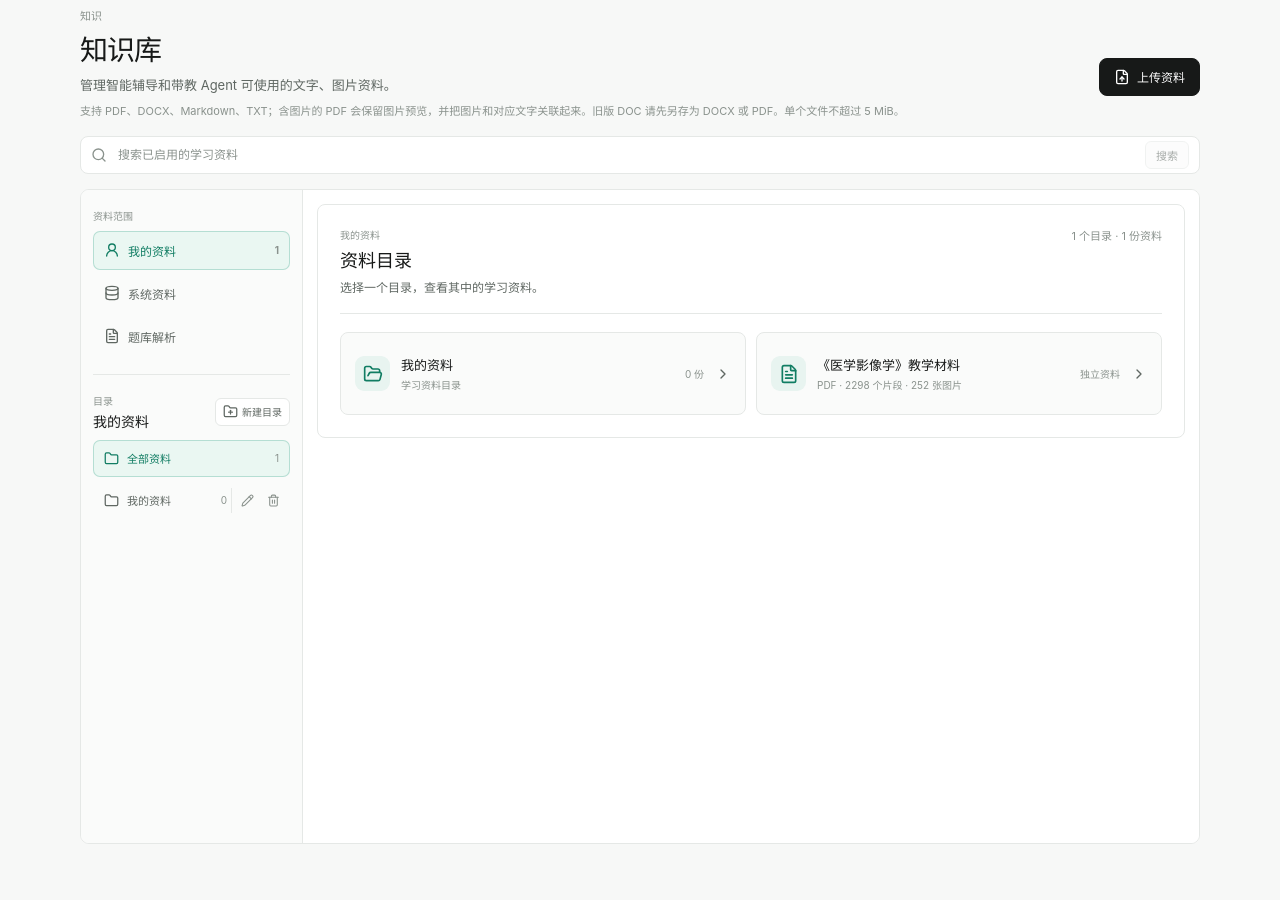
Test case: Stage 1 page contracts › opens a root textbook with usable text and image evidence previews
The width and height of the screenshot is (1280, 900).
What coordinates should you click on to do the following:
click the button with aria-label "打开《医学影像学》教学材料"
I would click on:
 (959, 374)
Its box is [756,332,1162,415].
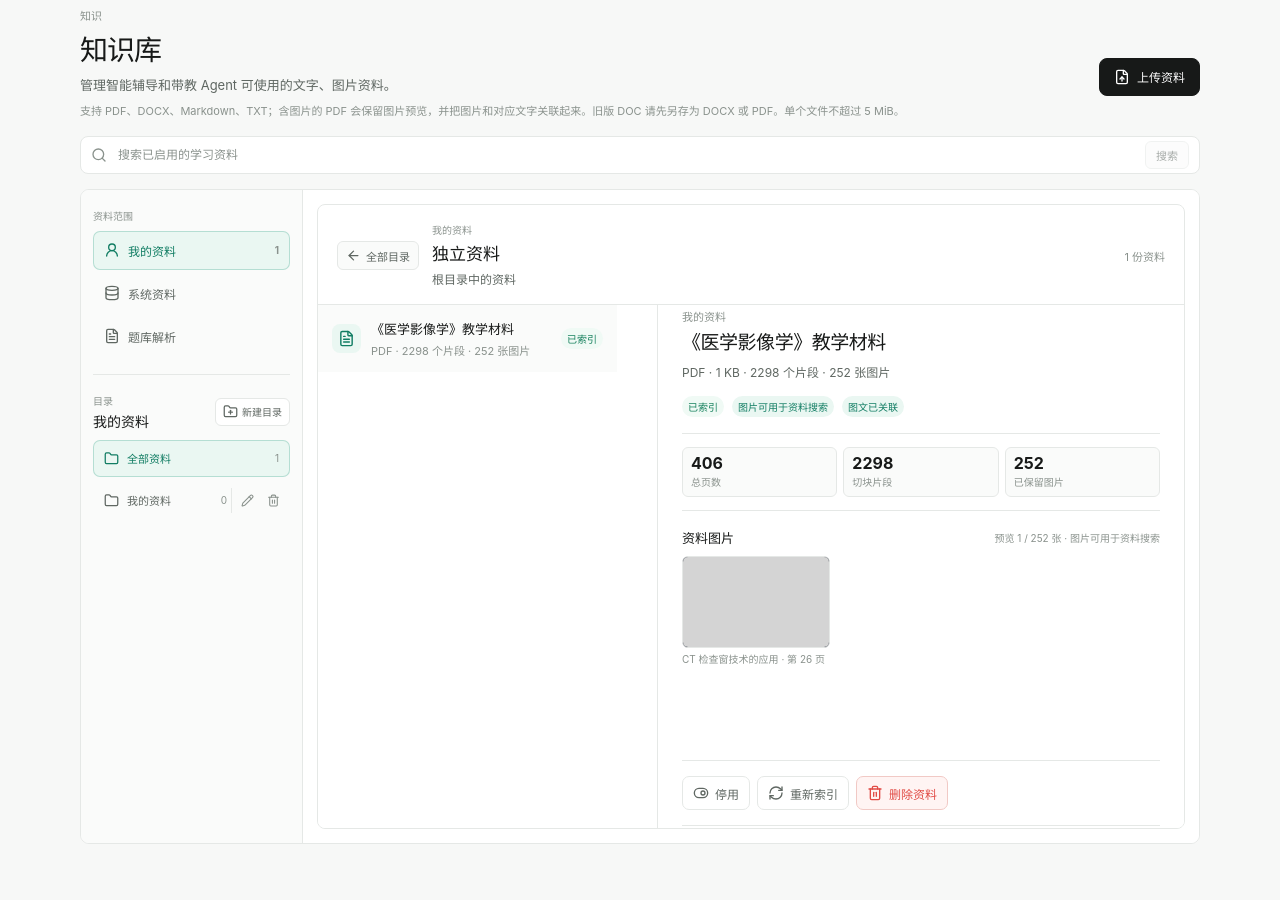
expect the heading "《医学影像学》教学材料" is shown: met, box [682,331,886,354]
expect the text "预览 1 / 252 张 · 图片可用于资料搜索" is shown: met, box [994,530,1160,545]
expect the text "切块片段" is shown: met, box [852,476,892,488]
